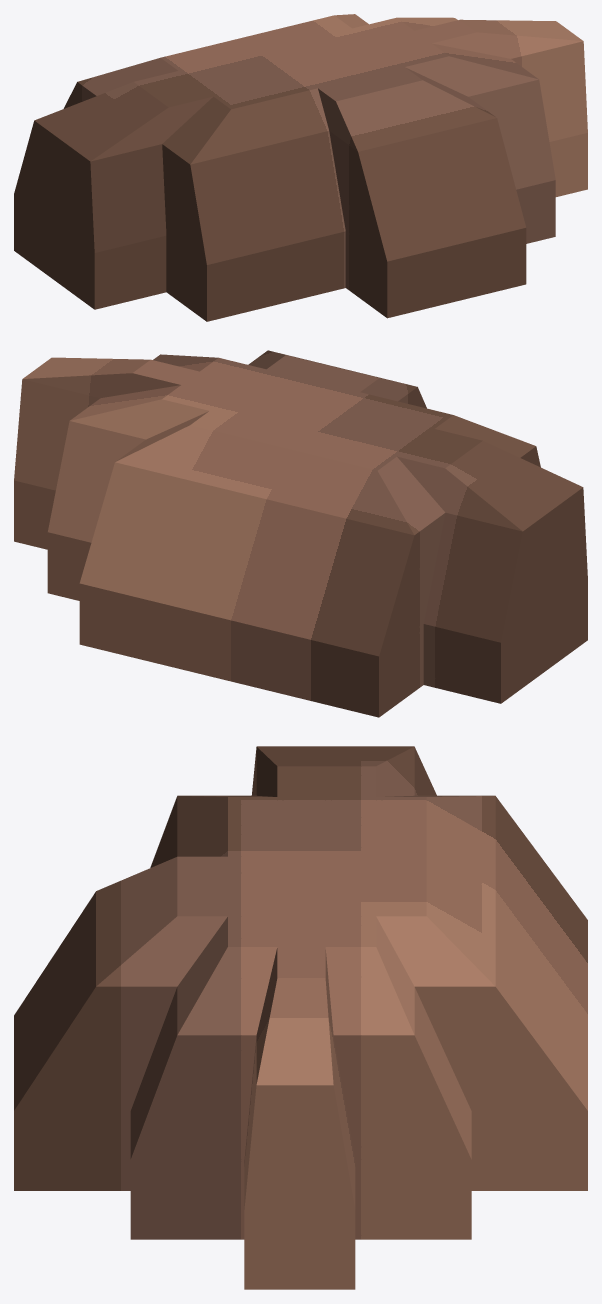
File: small_rock_203x04.gltf
3 views of the same model, one above another, from view 1: azimuth 30°, elevation 25°; view 2: azimuth 150°, elevation 25°; view 3: azimuth 270°, elevation 25° (orthographic). The views are drawn at different scales.
Visible parts, largest first — view 1: small_rock_203x04; view 2: small_rock_203x04; view 3: small_rock_203x04.
Boxes of the visible parts, x1=… form: small_rock_203x04: x1=14, y1=14, x2=587, y2=321; small_rock_203x04: x1=14, y1=350, x2=587, y2=717; small_rock_203x04: x1=14, y1=746, x2=587, y2=1289.
Size of the model in its own units: 0.7581 by 0.2538 by 0.5428.
1 material, 1 textured.
